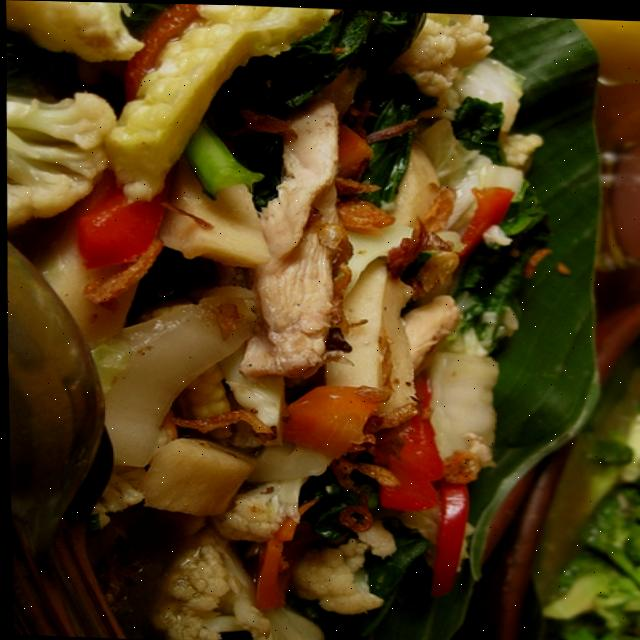蔬菜料理: (34, 2, 596, 640)
